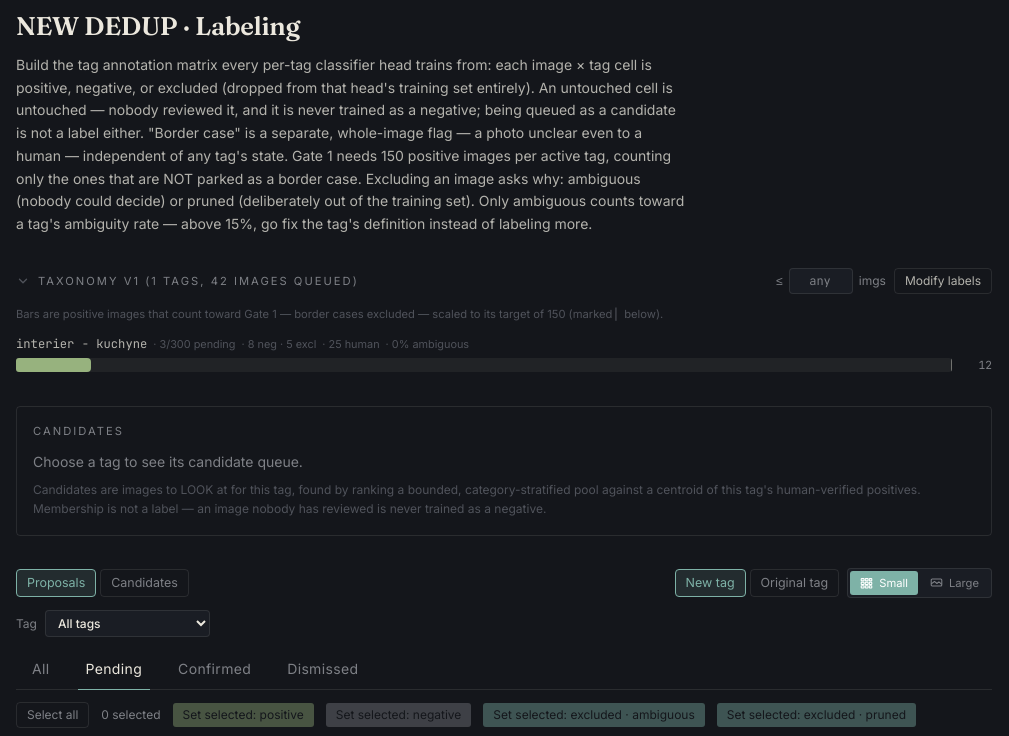
Test: <NewDedupLabeling> › says which property types a scoped tag draws from
The width and height of the screenshot is (1009, 736).
Expected: the button "interier - kuchyne" is shown, [16,335,147,353]
Select "interier - kuchyne (12)" in the dropdown labelled "Tag" at (128, 624), box [45,610,210,637]
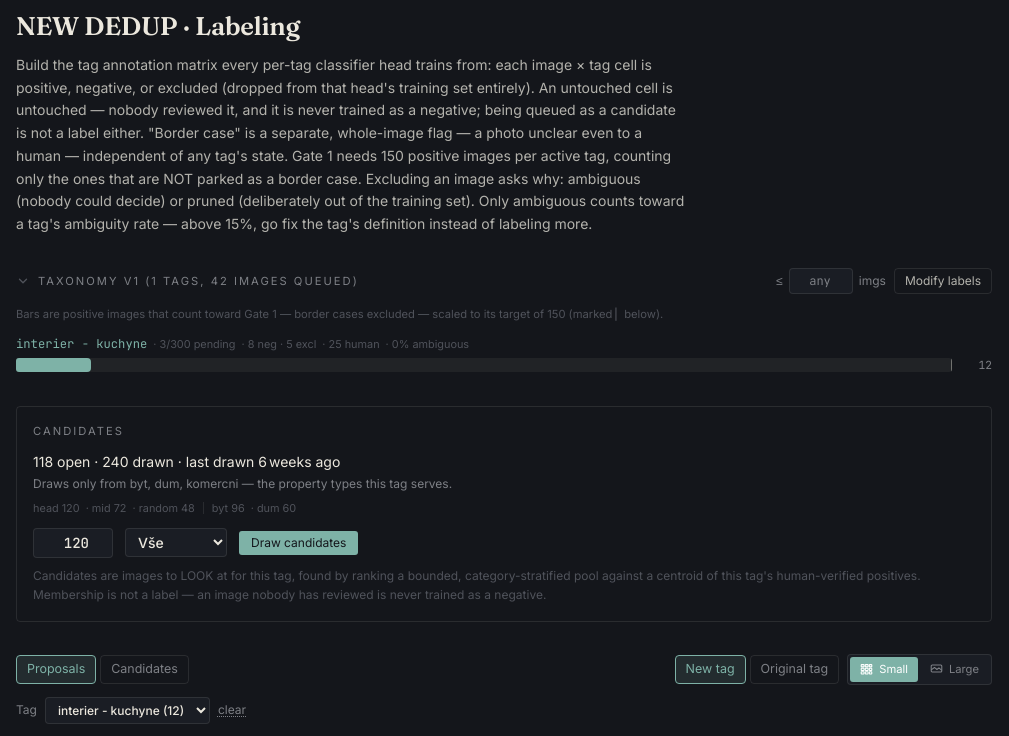
Expected: the button "Draw candidates" is shown, [239,531,358,555]
Expected: the text "Draws only from" reads "Draws only from byt, dum, komercni — the property types this tag serves.", [33,476,452,491]
